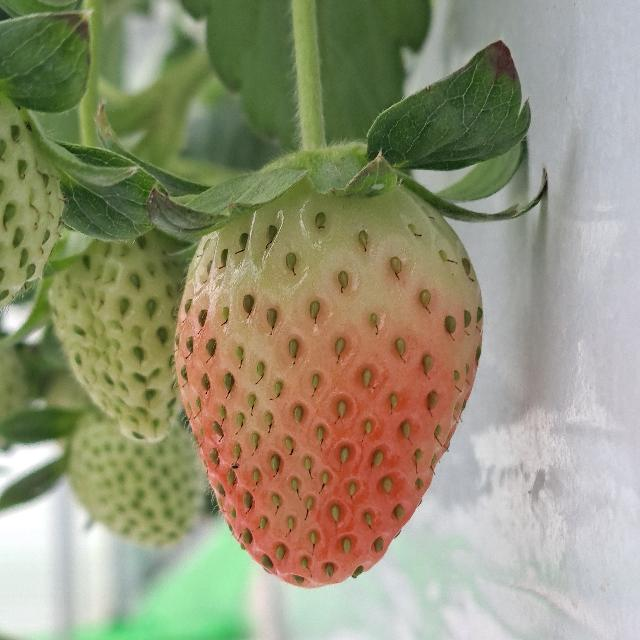Health_25: (49, 223, 192, 435)
Health_75: (173, 176, 482, 588)
